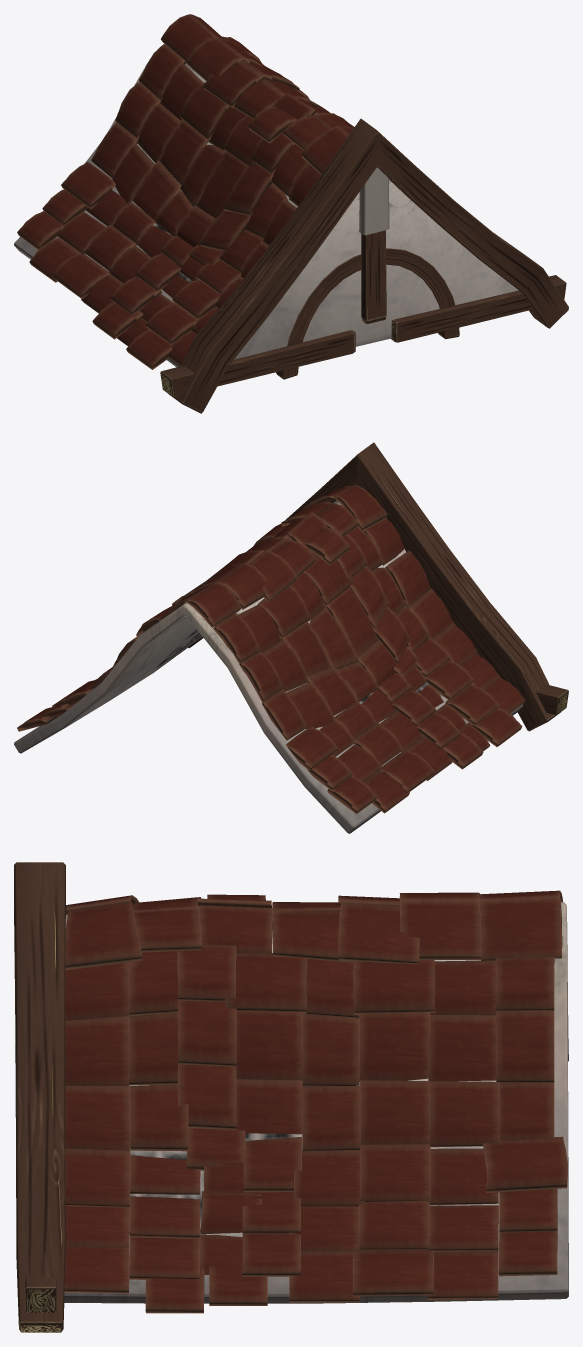
Rendered from Roof_Modular_V3.fbx.
3 views of the same model, one above another, from view 1: azimuth 30°, elevation 25°; view 2: azimuth 150°, elevation 25°; view 3: azimuth 270°, elevation 25° (orthographic). The views are drawn at different scales.
Parts seen in each view (by area): view 1: Roof_Tile1.002; view 2: Roof_Tile1.002; view 3: Roof_Tile1.002.
Boxes of the visible parts, left/top/right/bottom form: Roof_Tile1.002: left=14, top=14, right=568, bottom=413; Roof_Tile1.002: left=14, top=442, right=568, bottom=833; Roof_Tile1.002: left=14, top=862, right=568, bottom=1332.
Bounding box in the file's own units: 541 × 316 × 456.
